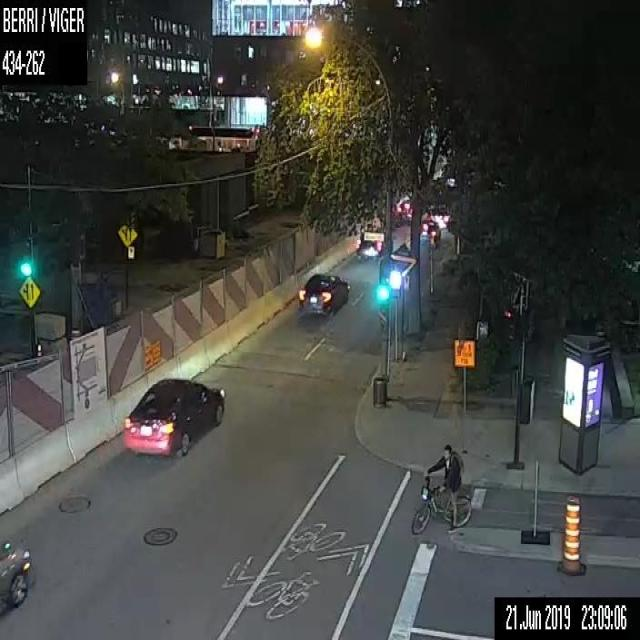construction: (558, 493, 586, 575), (451, 338, 472, 417)
cyclist: (411, 443, 473, 532)
vehicle: (122, 376, 224, 457), (0, 531, 31, 613), (296, 272, 349, 316), (354, 239, 382, 261), (420, 216, 441, 243)
